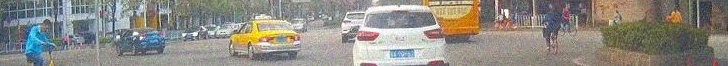L_light: (356, 31, 380, 41), (258, 36, 274, 42), (138, 35, 146, 40)
R_light: (423, 28, 445, 39), (287, 36, 300, 41), (157, 34, 164, 38)
T_light: (393, 10, 408, 14), (272, 22, 278, 24), (145, 29, 149, 31)
day-no: (352, 4, 449, 66), (254, 19, 301, 60), (133, 28, 165, 55)
